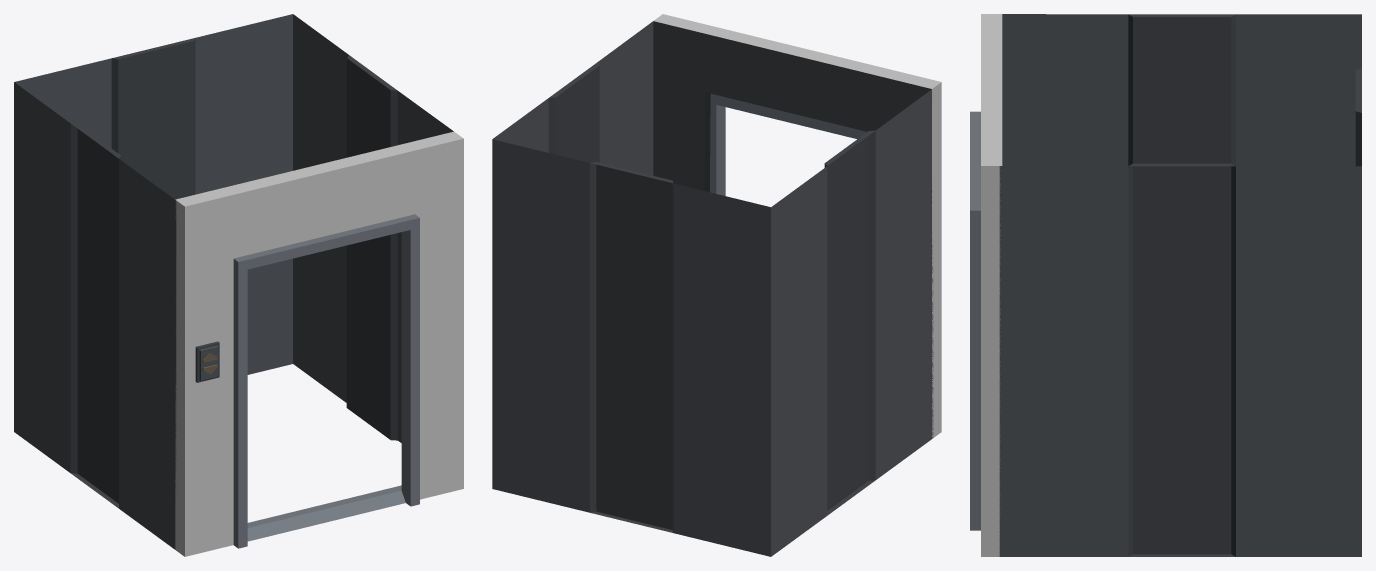
The model's file is SM_Bld_Wall_Elevator_01.fbx.
The picture shows the model from 3 angles, left to right: view 1: azimuth 30°, elevation 25°; view 2: azimuth 150°, elevation 25°; view 3: azimuth 270°, elevation 25°; orthographic projection. The views are drawn at different scales.
Parts seen in each view (by area): view 1: SM_Bld_Wall_Elevator_01; view 2: SM_Bld_Wall_Elevator_01; view 3: SM_Bld_Wall_Elevator_01.
Part boxes in pixels (x1,y1,x2,y2): SM_Bld_Wall_Elevator_01: (14,14,463,556); SM_Bld_Wall_Elevator_01: (492,14,941,556); SM_Bld_Wall_Elevator_01: (970,14,1361,556).
Bounding box in the file's own units: 250 × 300 × 273.
